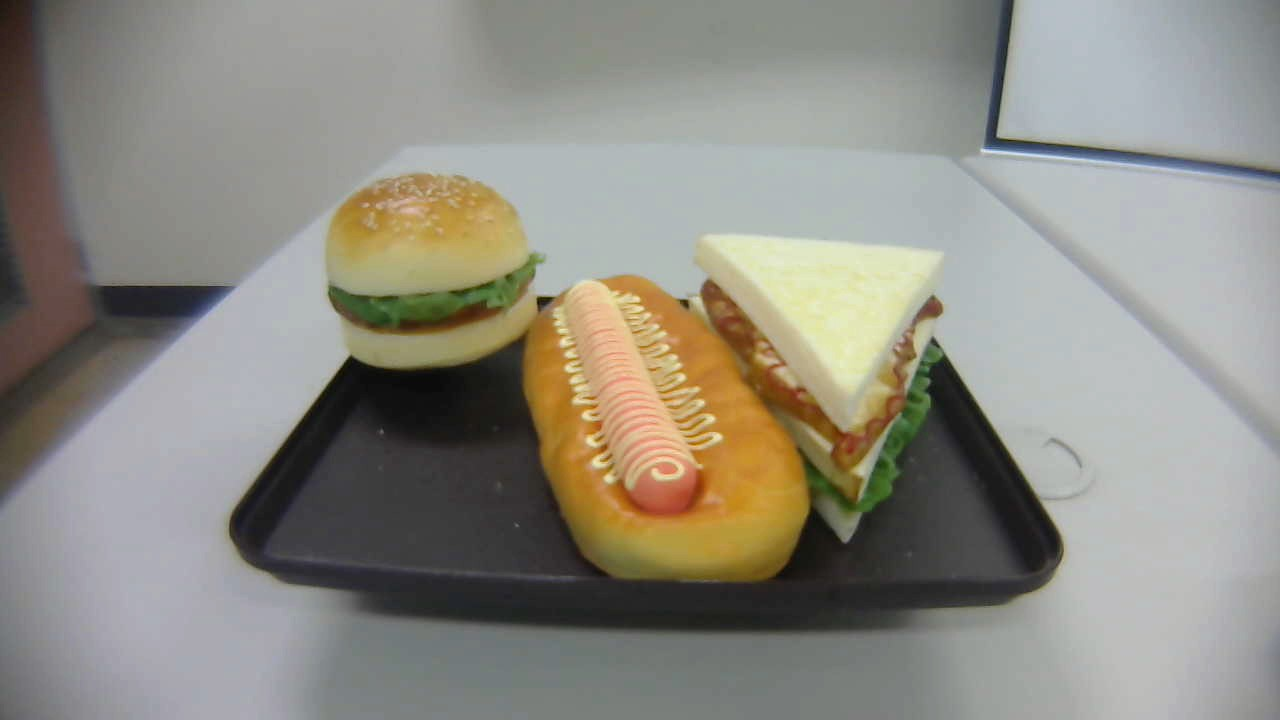hamburger: (326, 169, 539, 370)
hot dog: (523, 272, 812, 588)
sandwich: (687, 231, 945, 543)
